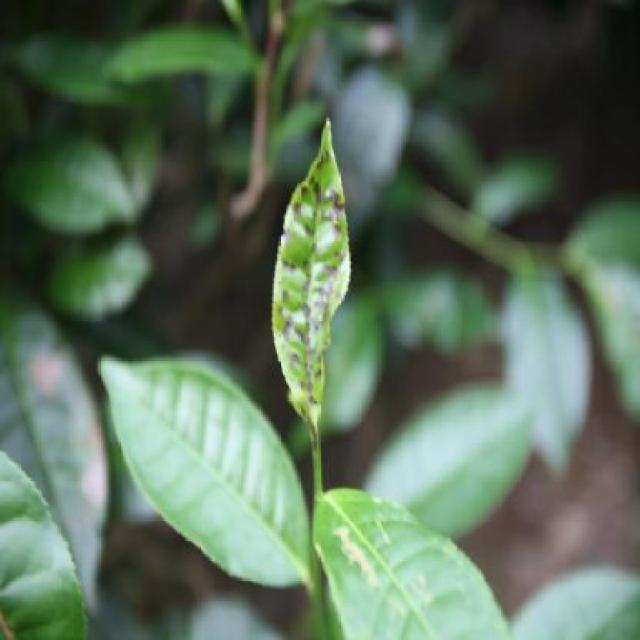Tea Mosquito bug infested leaf: (270, 109, 356, 425)
